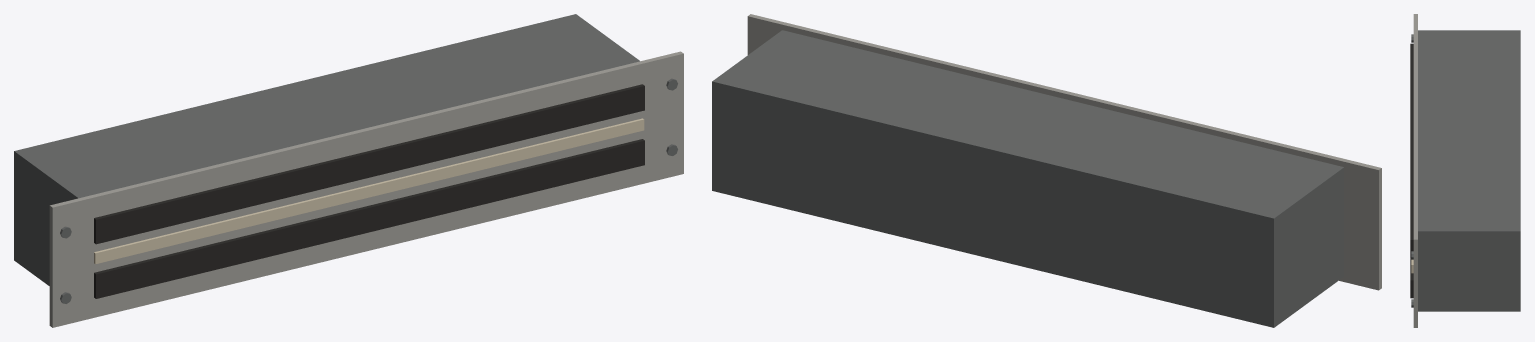
The model's file is patch-bay.glb.
3 renders of one model, left to right at view 1: azimuth 30°, elevation 25°; view 2: azimuth 150°, elevation 25°; view 3: azimuth 270°, elevation 25°, orthographic. The views are drawn at different scales.
Visible parts, largest first — view 1: brushed, metal, plastic-dark, paper; view 2: metal, brushed; view 3: metal, brushed, plastic-dark.
Boxes of the visible parts, <box> form: brushed: <box>49,51,683,327</box>; metal: <box>14,14,677,303</box>; plastic-dark: <box>94,84,644,298</box>; paper: <box>94,118,644,264</box>; metal: <box>712,30,1344,327</box>; brushed: <box>747,14,1381,290</box>; metal: <box>1411,30,1520,311</box>; brushed: <box>1413,14,1417,327</box>; plastic-dark: <box>1410,43,1413,298</box>.
Size of the model in its own units: 0.483 by 0.088 by 0.1.
